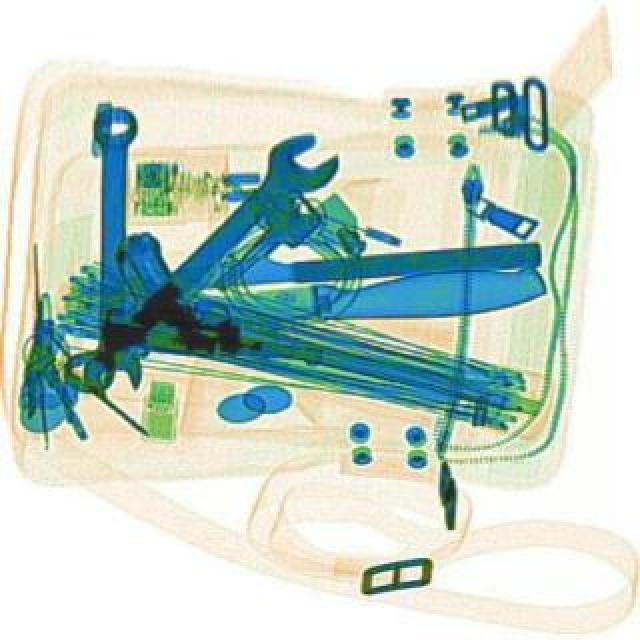gun: (106, 228, 330, 362)
knife: (126, 260, 544, 340), (74, 236, 540, 296)
scissors: (44, 122, 344, 408), (80, 106, 140, 398)
